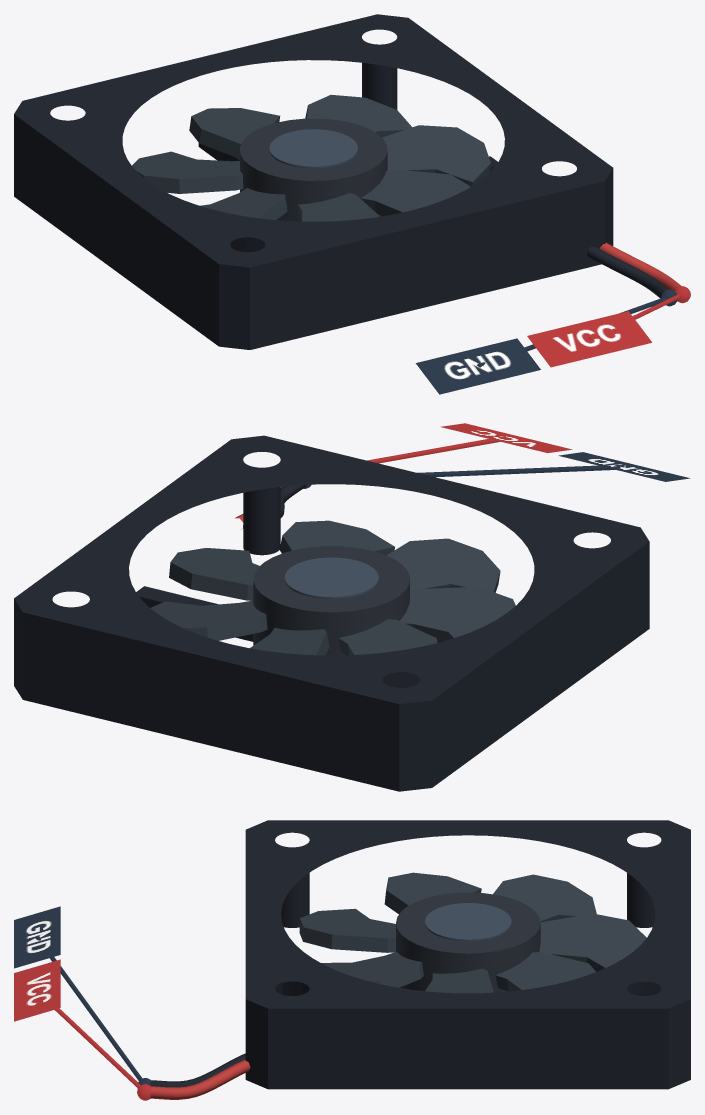
The model's file is fan.glb.
3 renders of one model, top to bottom at view 1: azimuth 30°, elevation 25°; view 2: azimuth 150°, elevation 25°; view 3: azimuth 270°, elevation 25°, orthographic. The views are drawn at different scales.
Visible parts, largest first — view 1: fan, VCC, GND, Terminal labels; view 2: fan, Terminal labels, VCC, GND; view 3: fan, VCC, GND, Terminal labels.
Part boxes in pixels (x1,y1,x2,y2): fan: (14,14,681,349); VCC: (527,311,651,367); GND: (415,338,540,394); Terminal labels: (477,286,690,367); fan: (14,435,649,791); Terminal labels: (303,435,624,488); VCC: (440,423,572,453); GND: (558,452,689,481); fan: (150,820,690,1099); VCC: (14,959,60,1021); GND: (14,906,60,968); Terminal labels: (35,935,151,1100).
Bounding box in the file's own units: 0.0414 × 0.00875 × 0.0608.
Materials: 9 (2 with a texture image).
